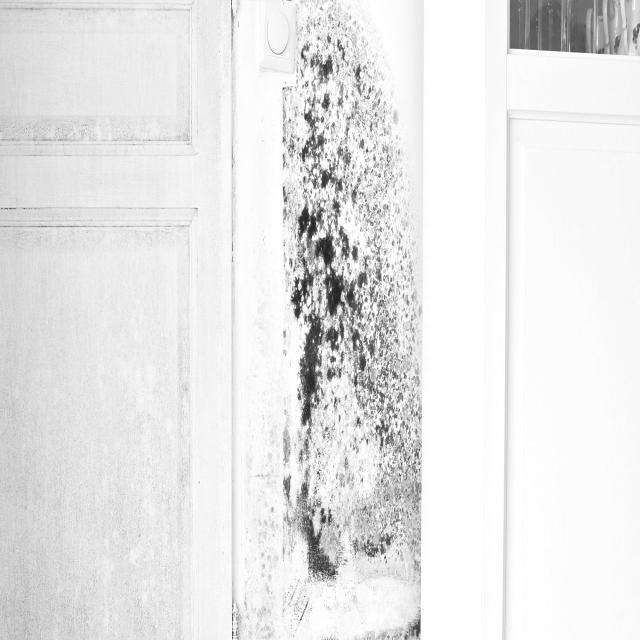stain marks: (296, 0, 424, 639), (238, 304, 278, 640), (280, 84, 298, 635)
